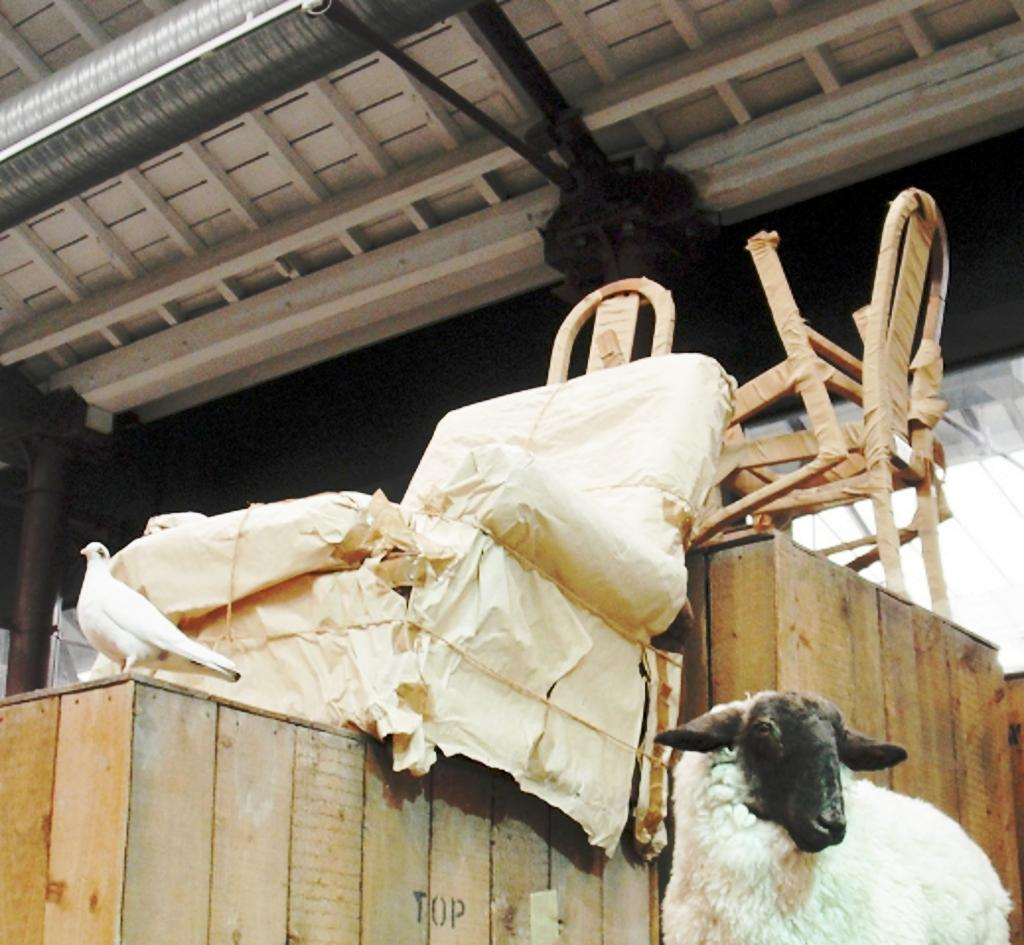Sheep: (655, 694, 1006, 943)
